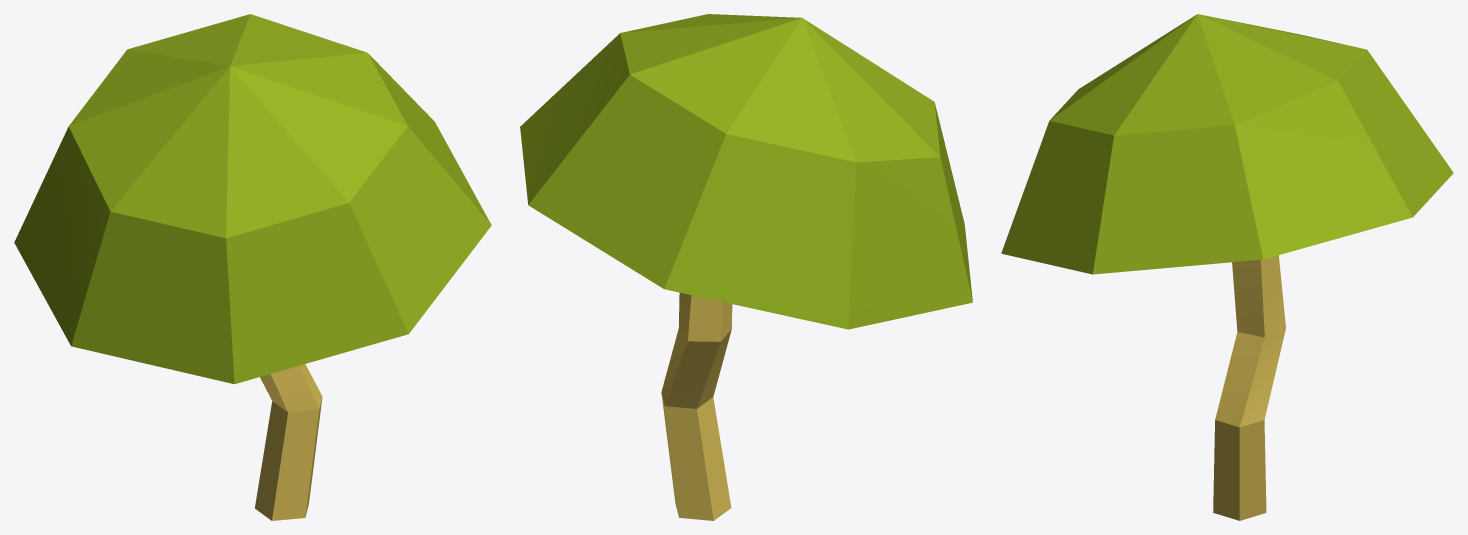
Rendered from Mushroom_g_b_03.fbx.
The picture shows the model from 3 angles, left to right: view 1: azimuth 30°, elevation 25°; view 2: azimuth 150°, elevation 25°; view 3: azimuth 270°, elevation 25°; orthographic projection. The views are drawn at different scales.
Visible parts, largest first — view 1: Mushroom_g_b_03_LOD0; view 2: Mushroom_g_b_03_LOD0; view 3: Mushroom_g_b_03_LOD0.
Boxes of the visible parts, x1,y1,x2,y2 form: Mushroom_g_b_03_LOD0: [14, 14, 491, 520]; Mushroom_g_b_03_LOD0: [520, 14, 972, 520]; Mushroom_g_b_03_LOD0: [1001, 14, 1453, 520].
Size of what is drawn, in the model's own units: 3.29 by 3.75 by 3.35.
